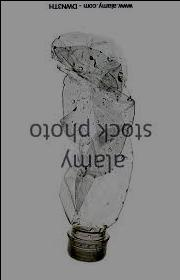Plastic: (43, 29, 146, 267)
